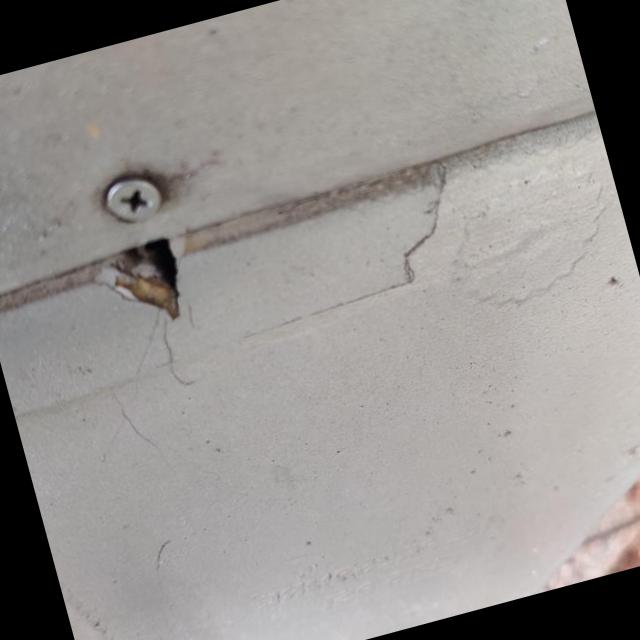Crack: (93, 238, 178, 319)
